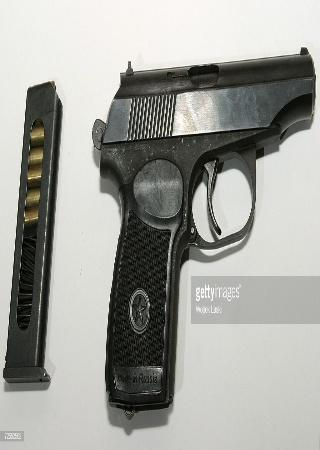weapon: (91, 47, 317, 420)
